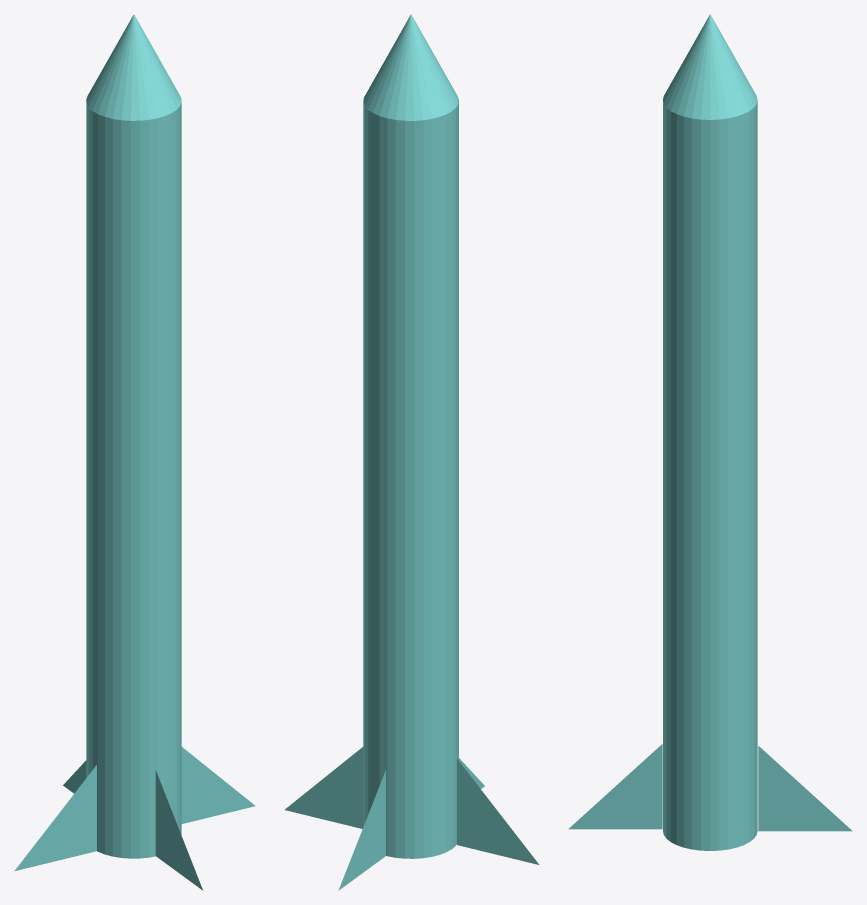
Rendered from rocket.glb.
3 views of the same model, side by side, from view 1: azimuth 30°, elevation 25°; view 2: azimuth 150°, elevation 25°; view 3: azimuth 270°, elevation 25° (orthographic).
Visible parts, largest first — view 1: Rocket; view 2: Rocket; view 3: Rocket.
Part boxes in pixels (x1,y1,x2,y2): Rocket: (14, 14, 255, 890); Rocket: (284, 14, 538, 890); Rocket: (568, 14, 852, 850).
Bounding box in the file's own units: 6.01 × 19.03 × 6.01.
